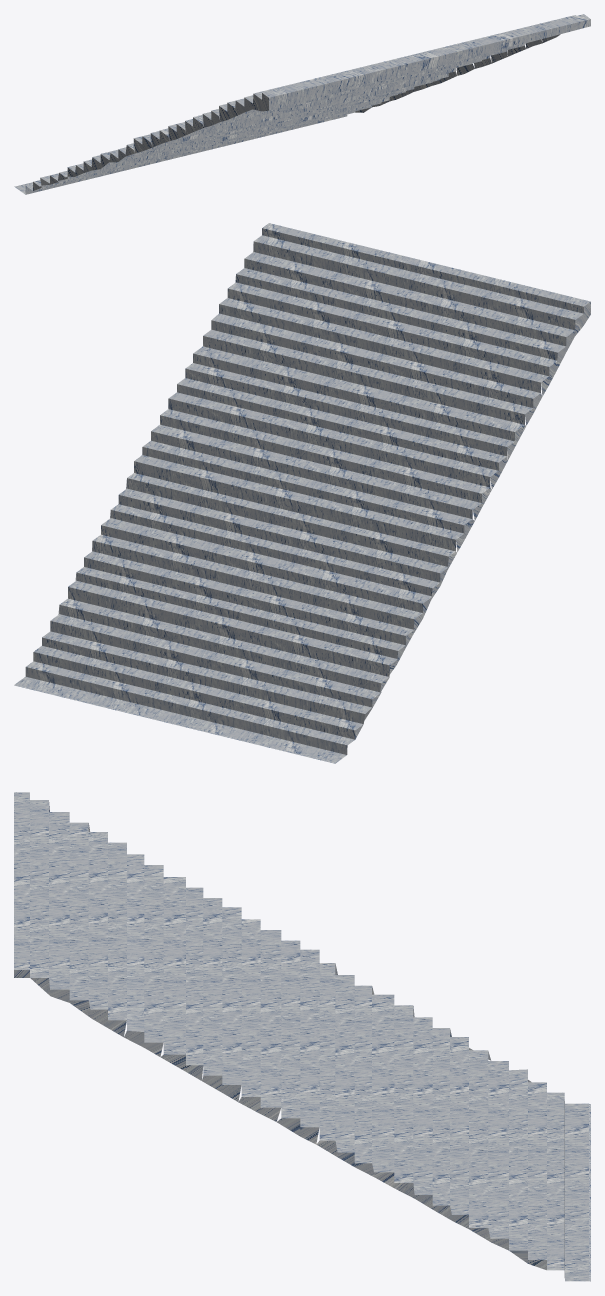
File: stair lower.All files.obj
3 renders of one model, top to bottom at view 1: azimuth 30°, elevation 25°; view 2: azimuth 150°, elevation 25°; view 3: azimuth 270°, elevation 25°, orthographic. The views are drawn at different scales.
Parts seen in each view (by area): view 1: MarbleStair; view 2: MarbleStair; view 3: MarbleStair.
Boxes of the visible parts, x1,y1,x2,y2 form: MarbleStair: (14, 14, 590, 194); MarbleStair: (14, 223, 590, 763); MarbleStair: (14, 792, 590, 1281).
Bounding box in the file's own units: 6.31 × 5.14 × 8.62.
1 material, 1 textured.
